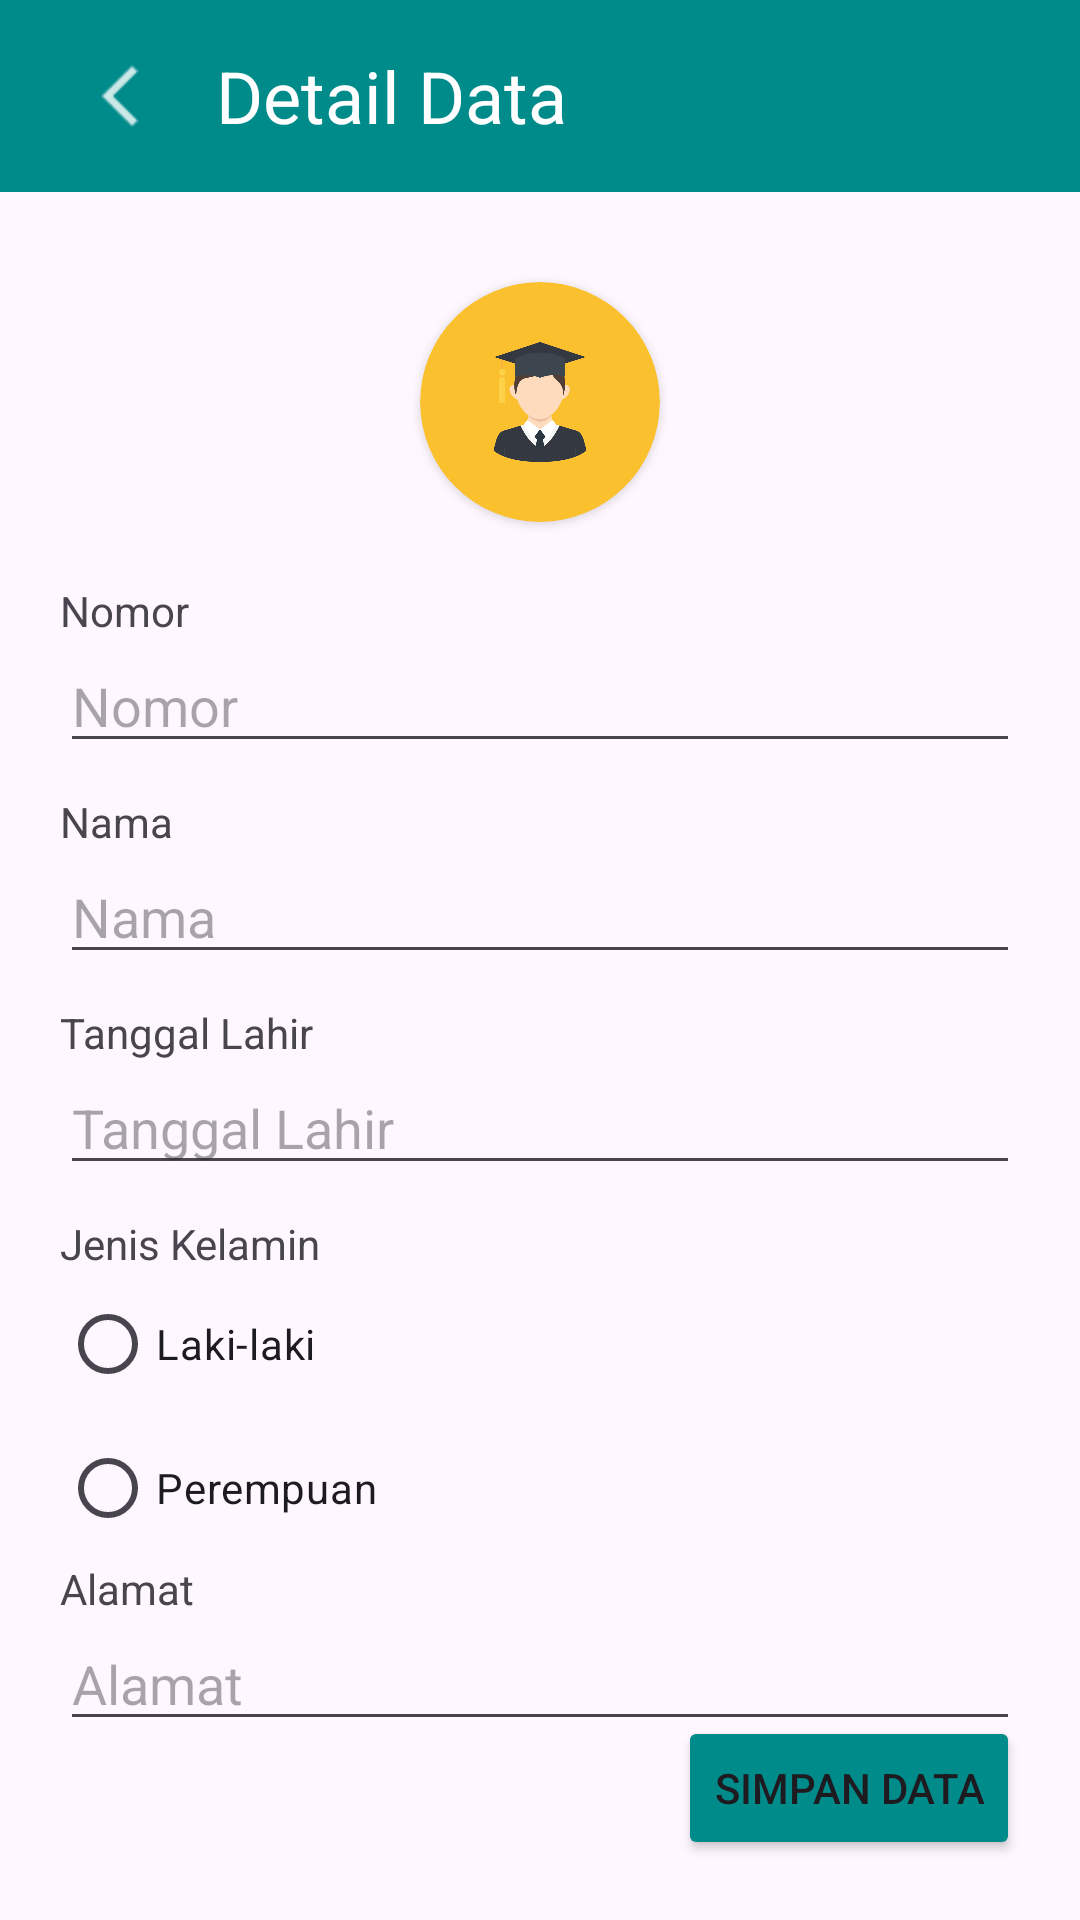

Icons on this 1080×1920 Android screen, each with the point to tap as (x,y):
graduation: (540,402)
Kembali: (119,96)
